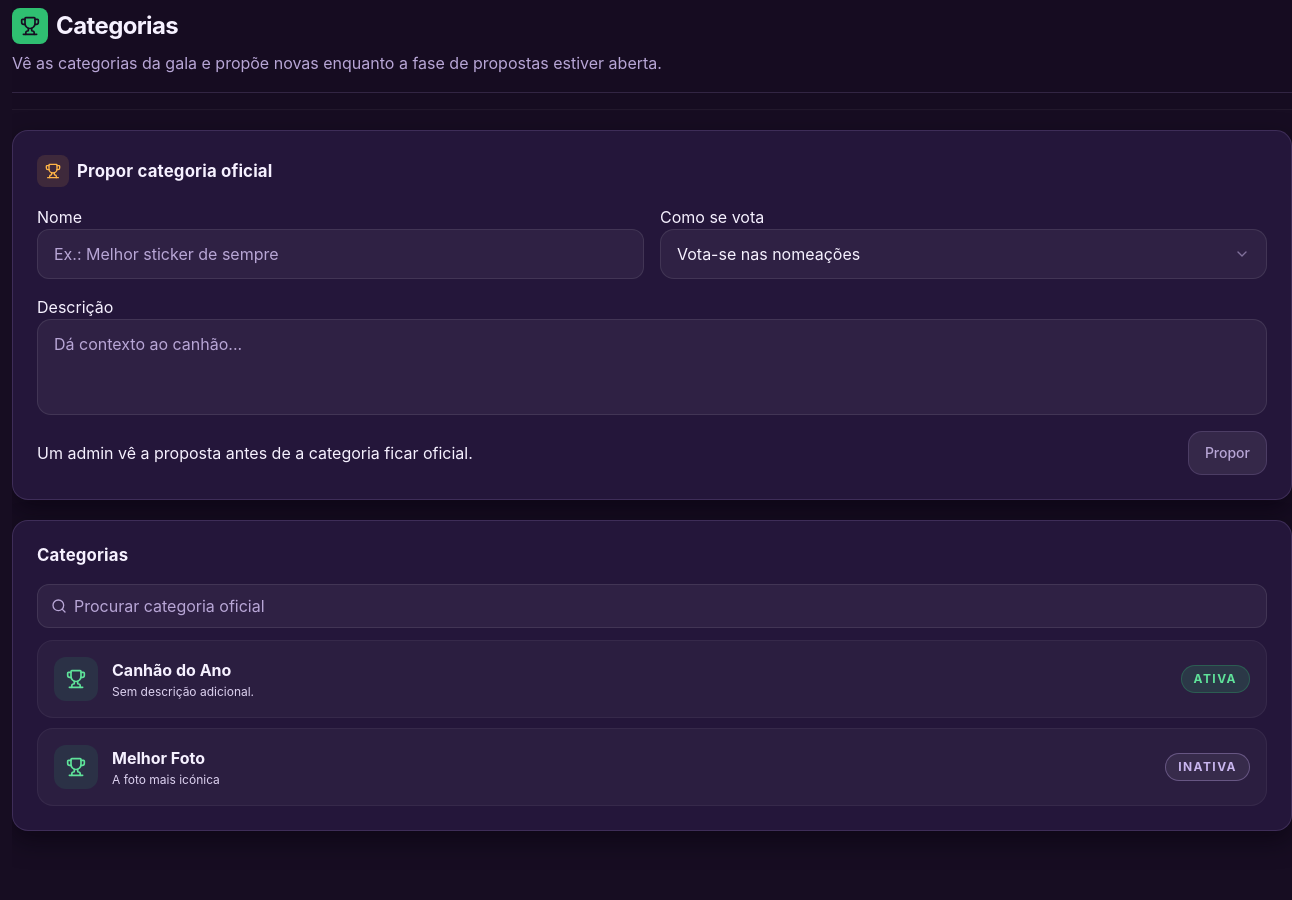
Test case: CanhoesCategoriesModule › sends the proposal, clears the form and refreshes the list
This screenshot has width=1292, height=900.
Type "  Melhor sticker  " into the field labelled "Nome".
click(340, 254); type("  Melhor sticker  ")  # box [37,229,644,279]
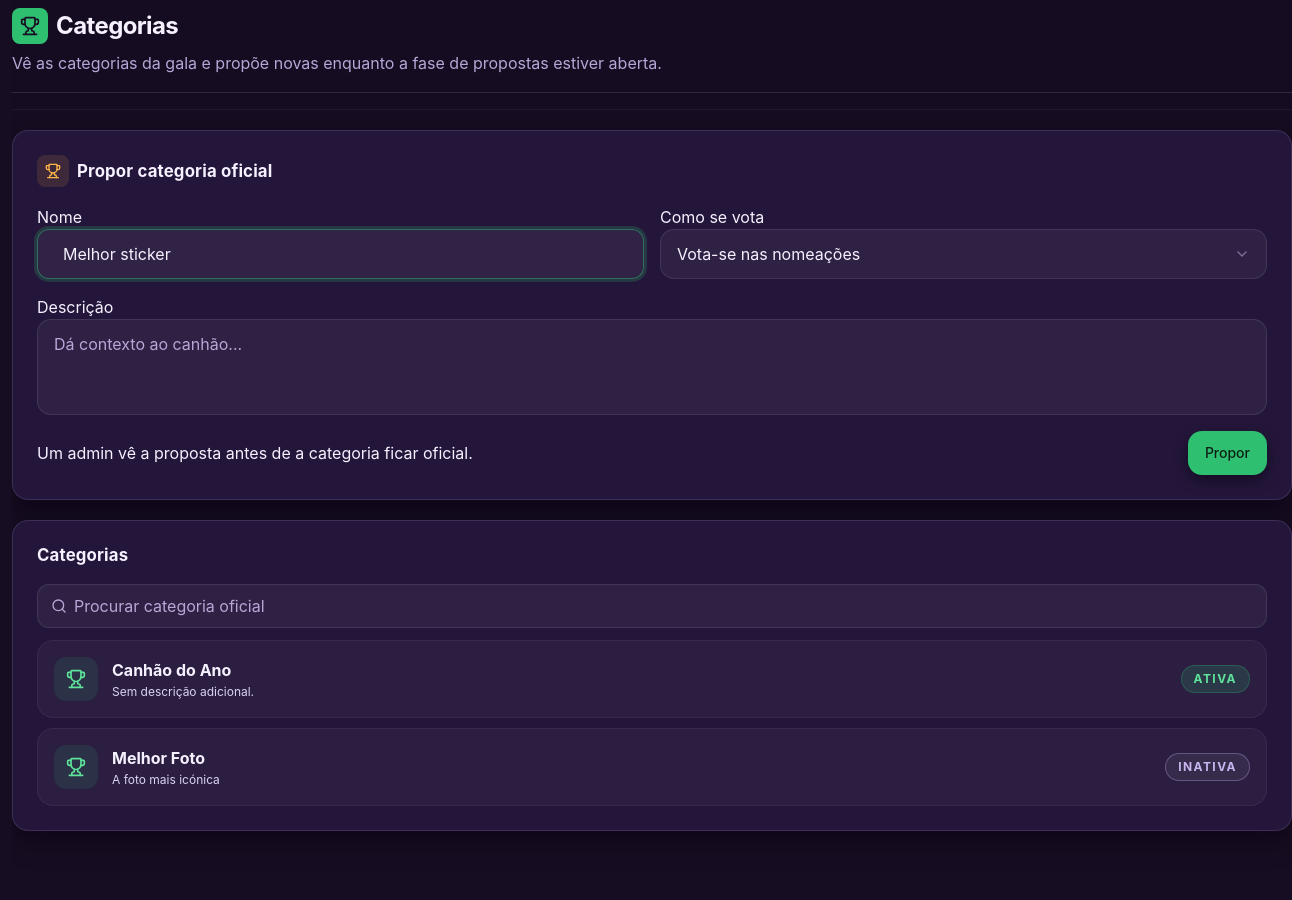
Type "O mais usado" into the text box labelled "Descrição".
click(652, 367); type("O mais usado")  # box [37,319,1267,415]
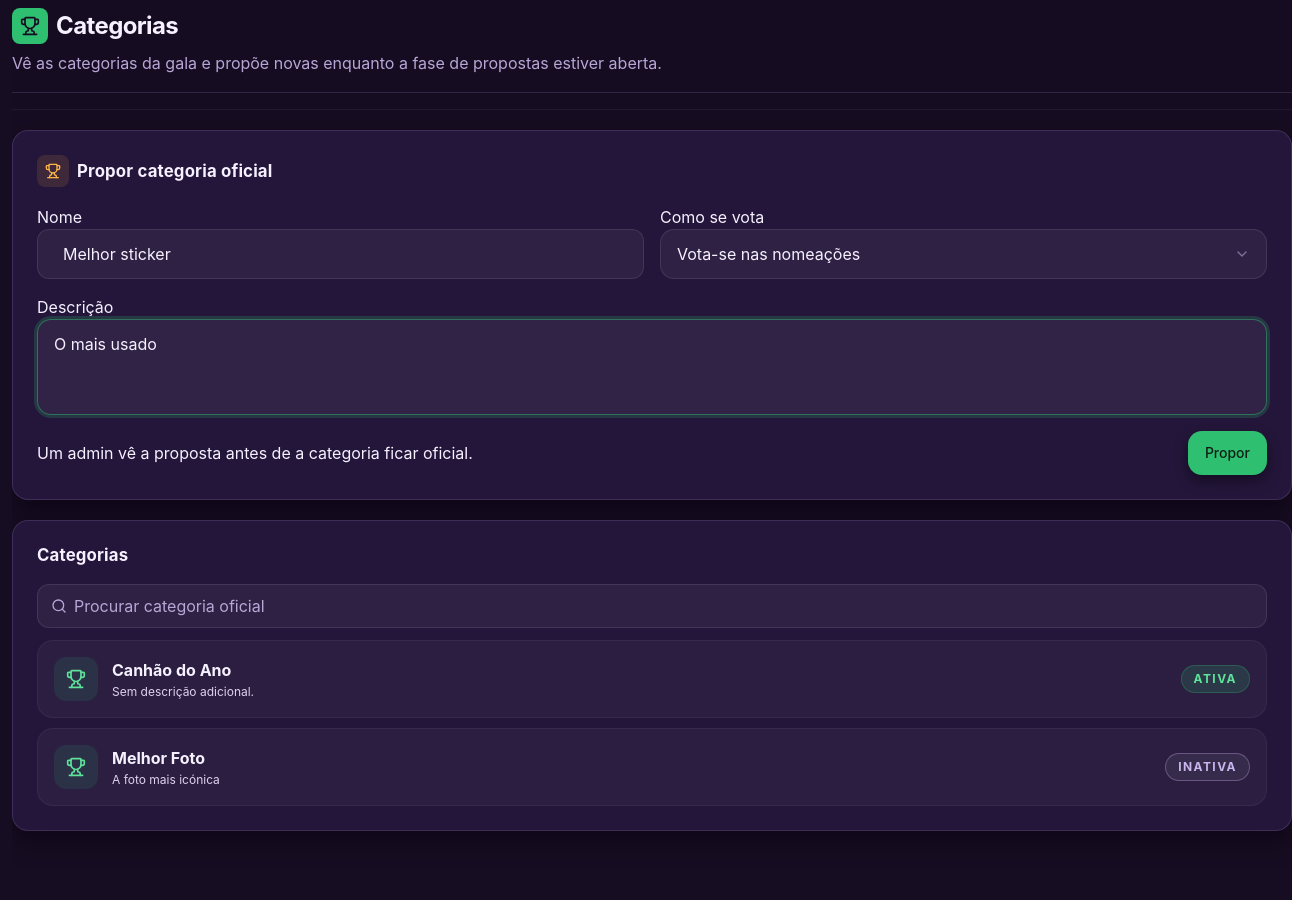
Click the button "Propor".
click(1227, 453)  # box [1188,431,1267,475]
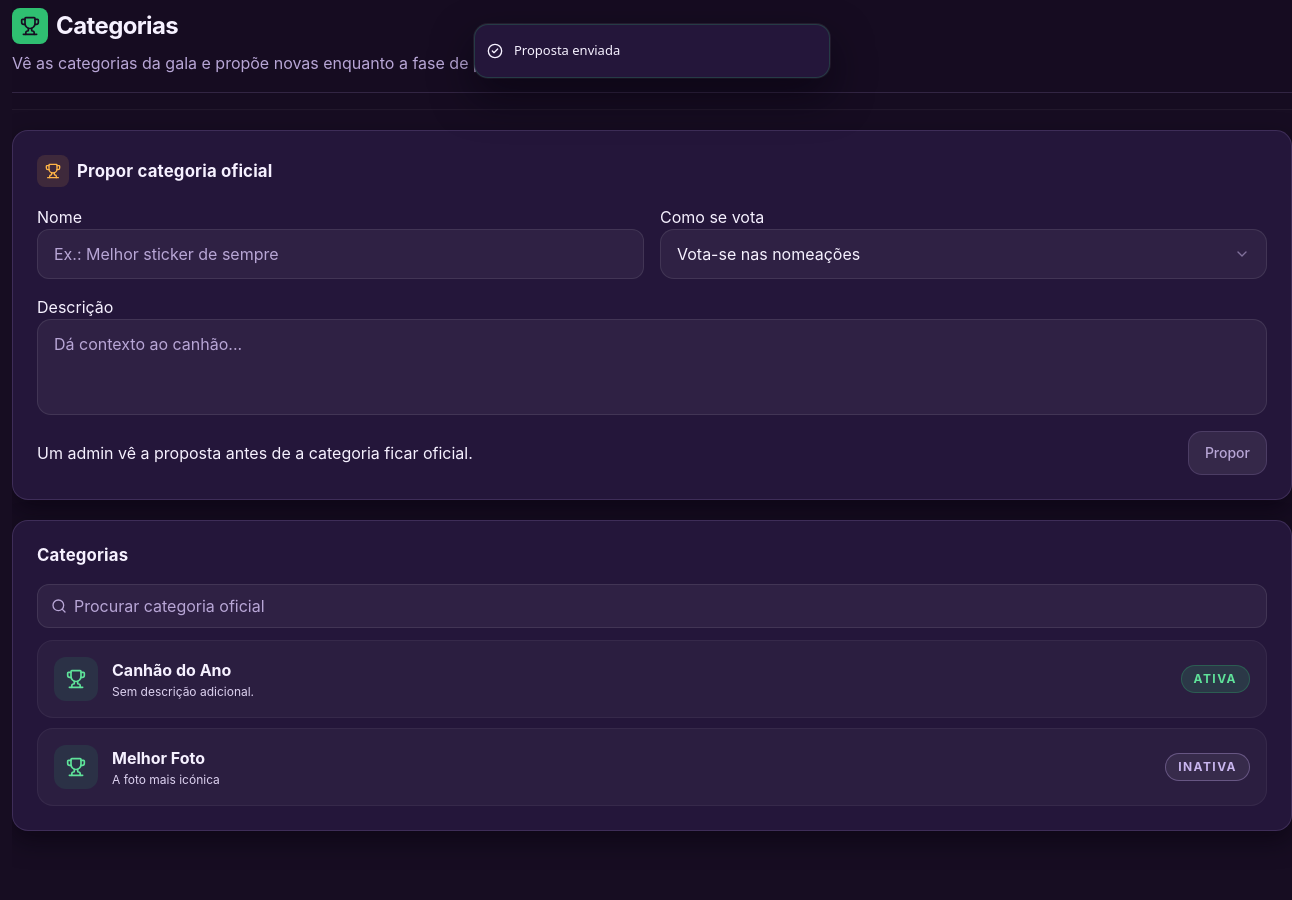
Result: the text "Proposta enviada" is shown at [514,41,620,60]
Result: the field labelled "Nome" is empty at [37,229,644,279]
